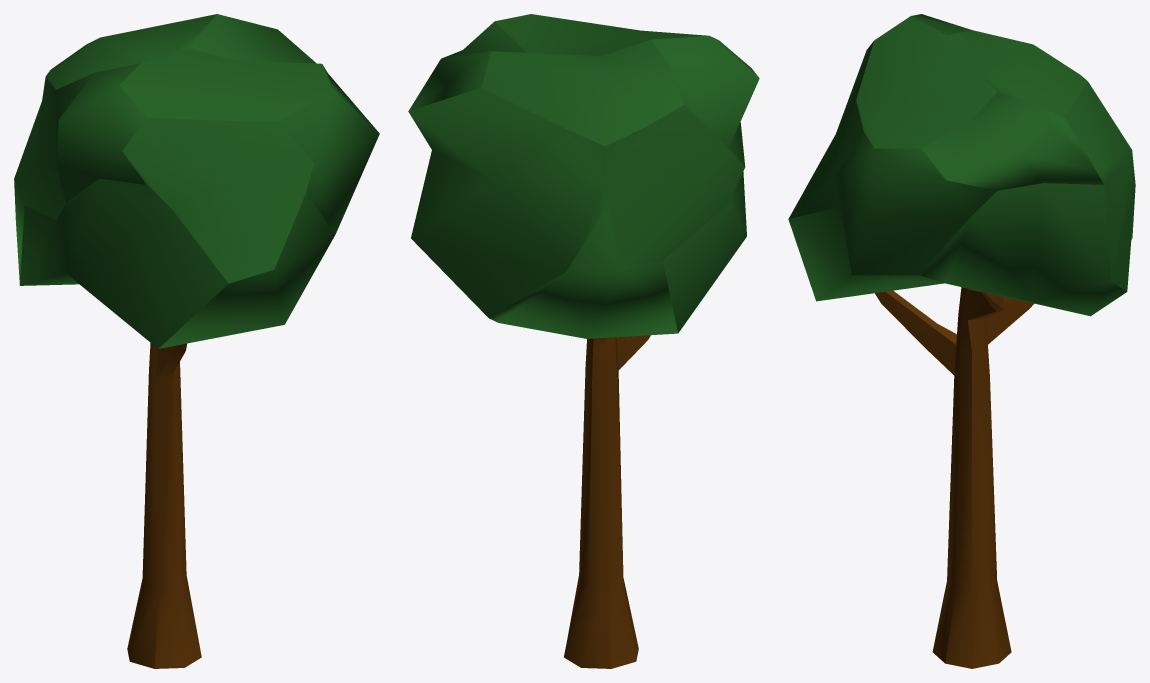
File: Tree B.fbx
3 views of the same model, side by side, from view 1: azimuth 30°, elevation 25°; view 2: azimuth 150°, elevation 25°; view 3: azimuth 270°, elevation 25° (orthographic). The views are drawn at different scales.
Visible parts, largest first — view 1: pPlatonic1, pCube1; view 2: pPlatonic1, pCube1; view 3: pPlatonic1, pCube1.
Boxes of the visible parts, <box> form: pPlatonic1: <box>14,14,379,348</box>; pCube1: <box>127,343,201,668</box>; pPlatonic1: <box>408,14,759,338</box>; pCube1: <box>564,335,650,668</box>; pPlatonic1: <box>788,14,1135,316</box>; pCube1: <box>875,287,1033,668</box>.
Size of the model in its own units: 4.2 by 8.37 by 4.39.
